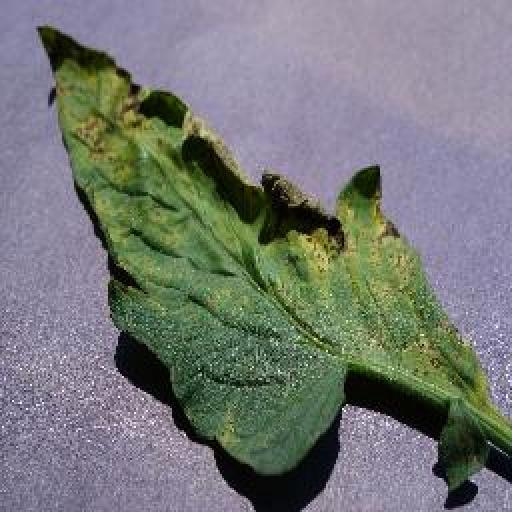disease_tomato: (36, 20, 486, 478)
